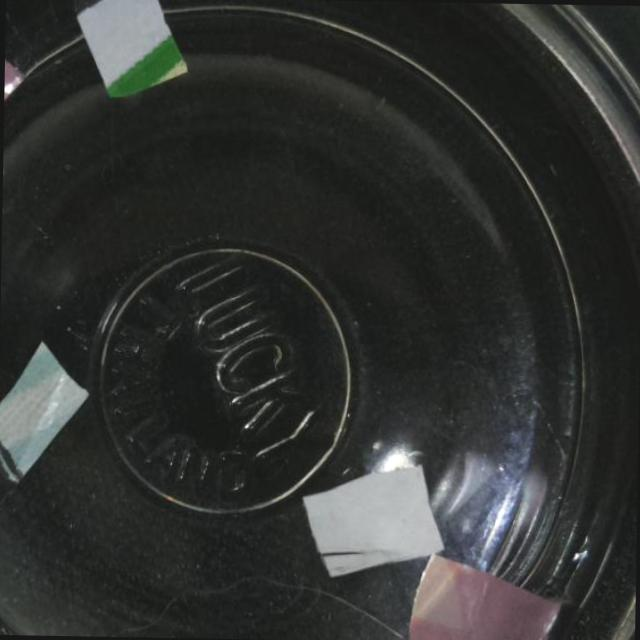fiber: (288, 458, 442, 576), (408, 554, 571, 640), (0, 333, 92, 484), (62, 0, 193, 105)
